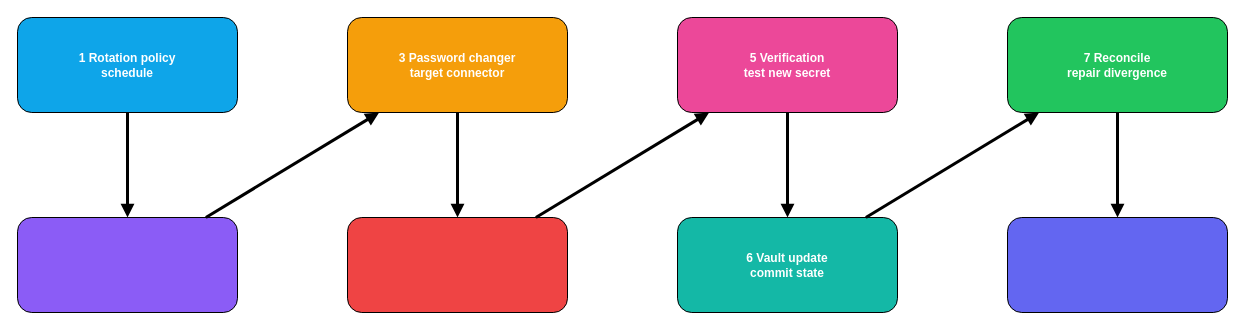
The diagram is 1245 pixels wide and 330 high, and some of its shapes have lost their labels. Each missing label, with the box of its shape:
2 FortiPAM vault current secret: (16, 216, 238, 312)
4 Directory/target accept change: (346, 216, 568, 312)
8 Audit job/result evidence: (1006, 216, 1228, 312)
